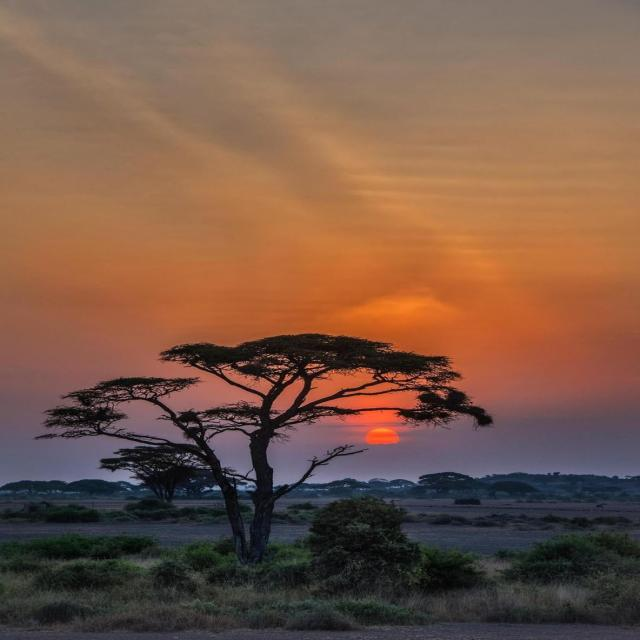Acacia: (44, 336, 450, 561)
